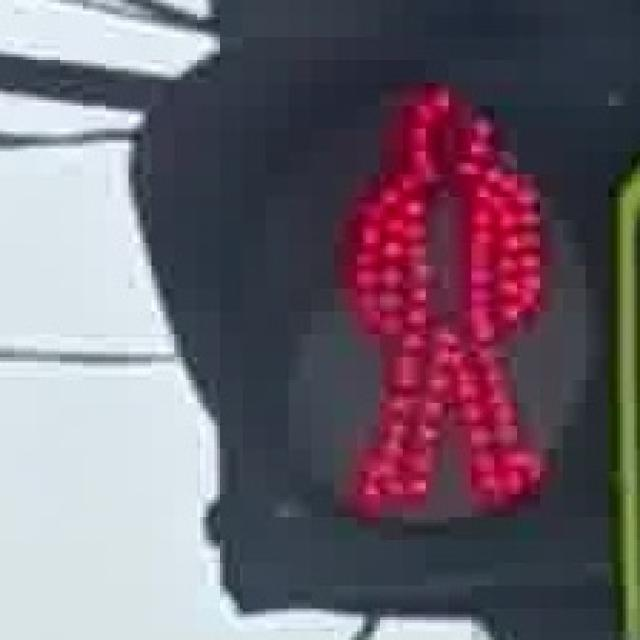red_light: (326, 66, 554, 528)
